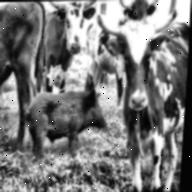boar: (14, 74, 116, 164)
